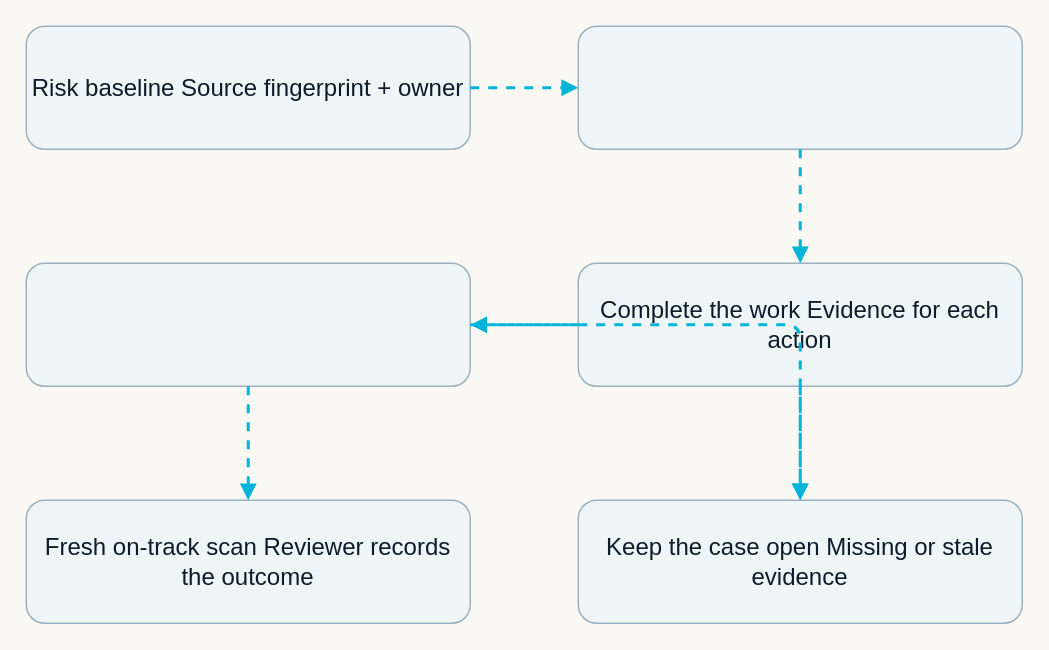
This 1049x650 diagram has some shape labels left out. The shapes that lost their labels are listed below. From the top down, each one's centre as x and y in pixels, then its label:
At pixel 799 87: "Approved playbook Explicit actions and goals".
At pixel 247 324: "New observations Changed source + seven days".
